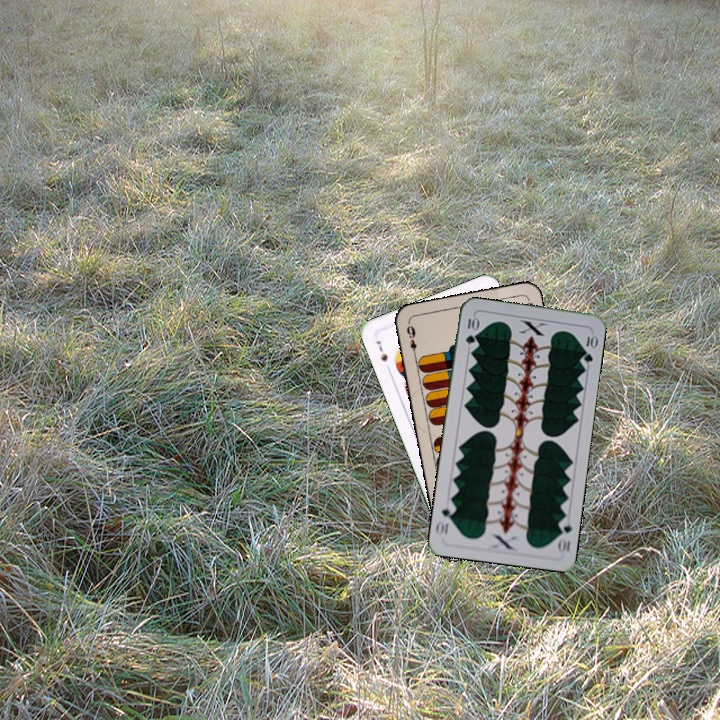E9: (402, 319, 419, 360)
G10: (554, 514, 574, 556), (461, 312, 480, 347)
S7: (372, 336, 390, 364)
